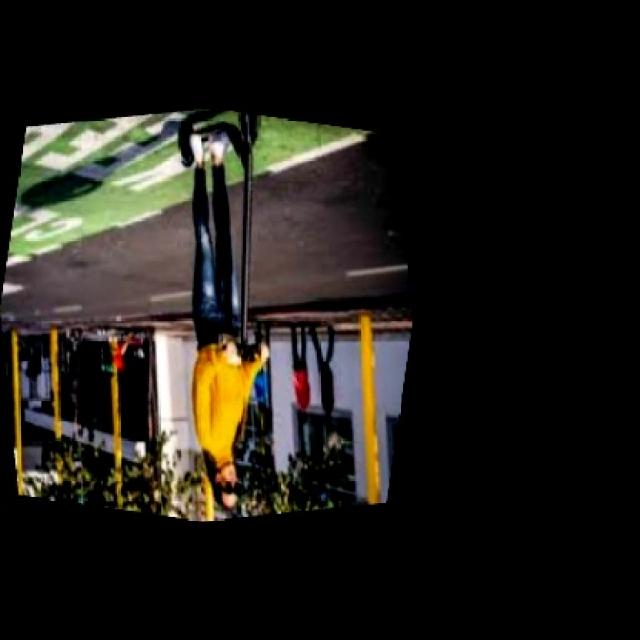bare_head: (199, 447, 267, 516)
human: (170, 134, 284, 517)
kickboard: (152, 113, 323, 160)
